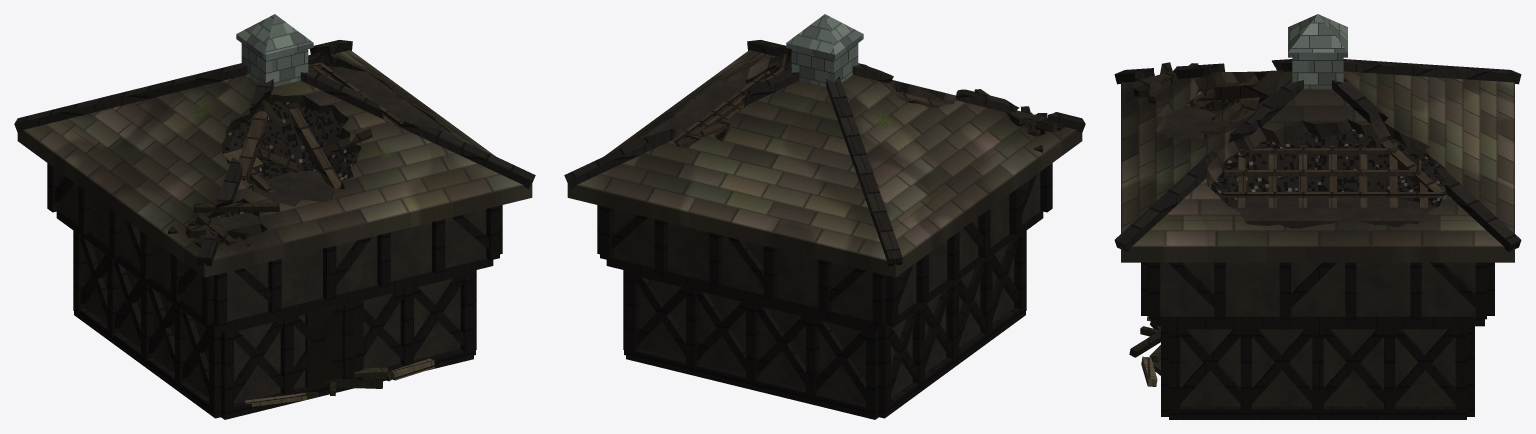
The model's file is Arabuild02a.glb.
The picture shows the model from 3 angles, left to right: view 1: azimuth 30°, elevation 25°; view 2: azimuth 150°, elevation 25°; view 3: azimuth 270°, elevation 25°; orthographic projection. The views are drawn at different scales.
Parts seen in each view (by area): view 1: Arabuild02a_rafter; view 2: Arabuild02a_rafter; view 3: Arabuild02a_rafter.
Boxes of the visible parts, left/top/right/bottom form: Arabuild02a_rafter: left=14, top=14, right=535, bottom=419; Arabuild02a_rafter: left=564, top=14, right=1085, bottom=419; Arabuild02a_rafter: left=1114, top=14, right=1521, bottom=419.
Size of the model in its own units: 7.23 by 6.59 by 7.13.
Materials: 17 (16 with a texture image).
